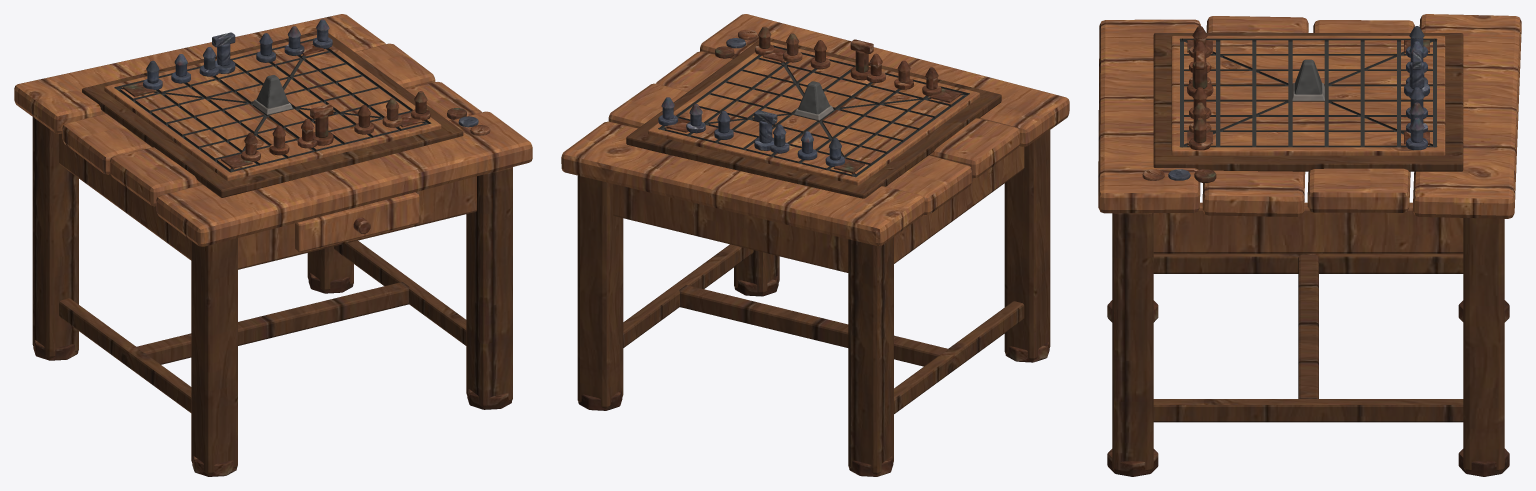
File: hm_delve_game_table.glb
The picture shows the model from 3 angles, left to right: view 1: azimuth 30°, elevation 25°; view 2: azimuth 150°, elevation 25°; view 3: azimuth 270°, elevation 25°; orthographic projection. The views are drawn at different scales.
Parts seen in each view (by area): view 1: model; view 2: model; view 3: model.
Part boxes in pixels (bbox=[...]): model: bbox=[14, 14, 532, 476]; model: bbox=[561, 14, 1069, 476]; model: bbox=[1098, 14, 1521, 476].
Size of the model in its own units: 0.8276 by 0.72 by 0.82.
9 materials, 8 textured.
